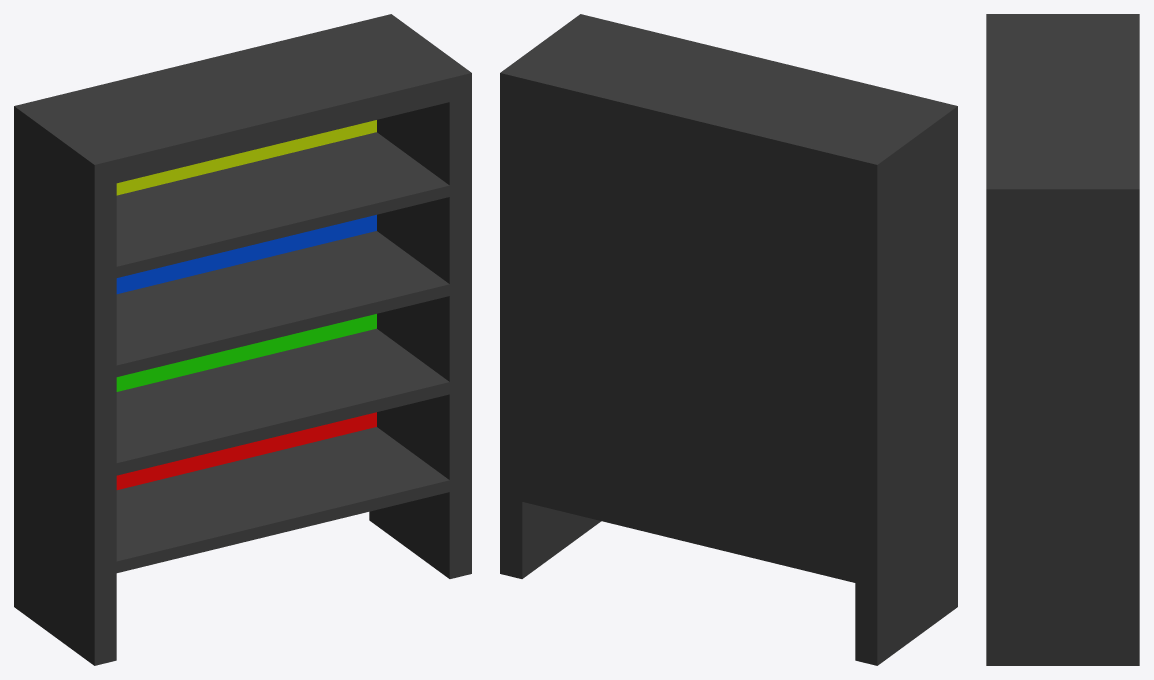
Rendered from estantevasos.fbx.
3 renders of one model, left to right at view 1: azimuth 30°, elevation 25°; view 2: azimuth 150°, elevation 25°; view 3: azimuth 270°, elevation 25°, orthographic. The views are drawn at different scales.
Parts seen in each view (by area): view 1: Estante vasos; view 2: Estante vasos; view 3: Estante vasos.
Part boxes in pixels (left/top/right/bottom): Estante vasos: left=14, top=14, right=471, bottom=665; Estante vasos: left=500, top=14, right=957, bottom=665; Estante vasos: left=986, top=14, right=1139, bottom=665.
Size of the model in its own units: 200 by 254 by 73.9.
